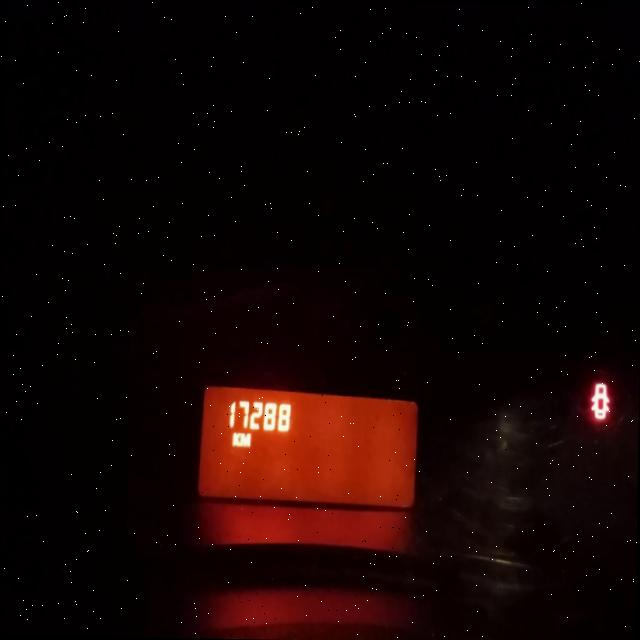odometer: (192, 381, 422, 512)
